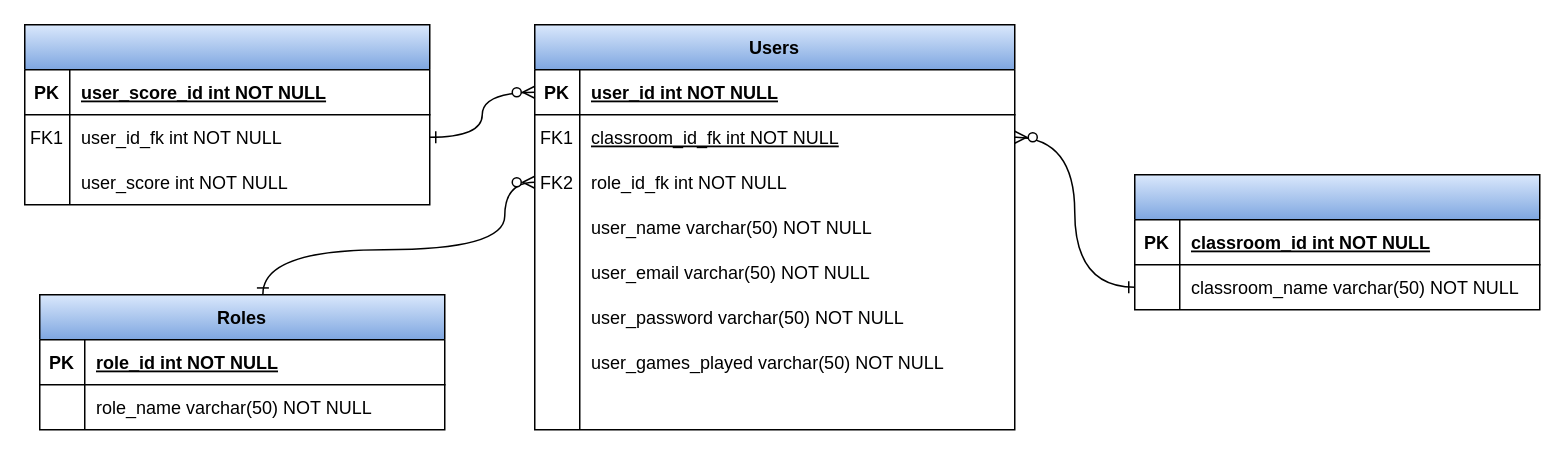
Some shapes in this 1565 by 455 pixel diagram are drawn without their labels. The shapes that lost their labels are listed below. From the top down, each one's box as (x1, y1, x2, y2) in pixels, then its label:
(23, 23, 430, 205): Users_Score
(1133, 173, 1540, 310): Classrooms
